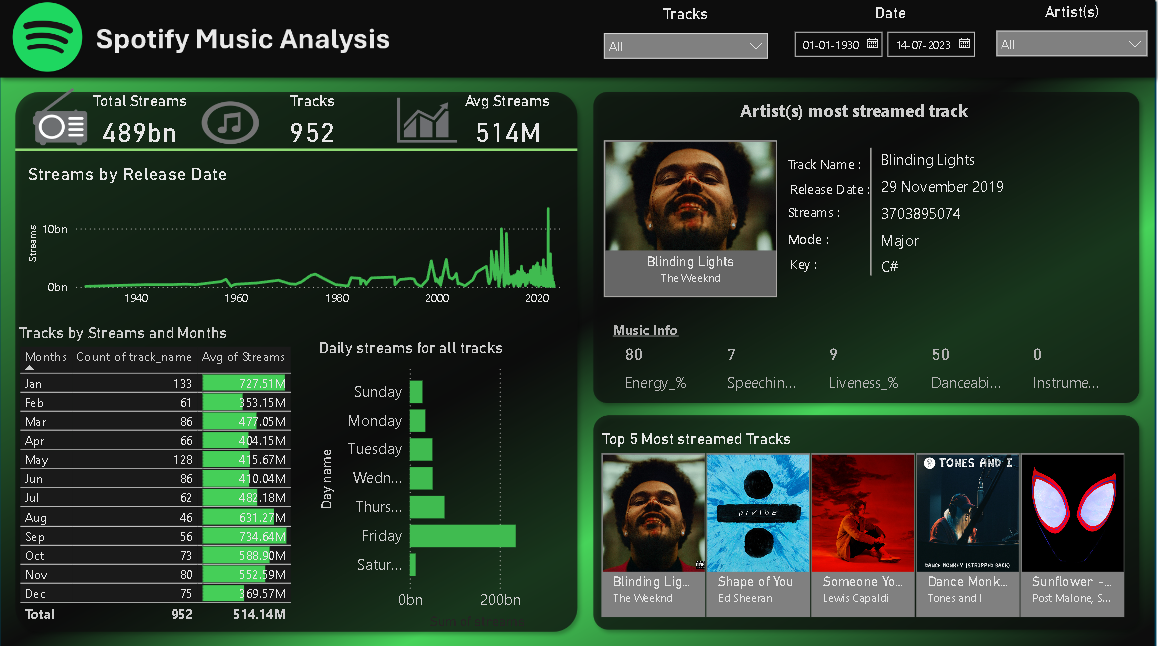

The dashboard page shown, as its layout file describes it:
{"tool":"powerbi","page":{"name":"Page 1","canvas":[1280,720],"ordinal":0},"visuals":[{"type":"card","title":"Total Streams","fields":{"Values":["Sum(Spotify Dataset.streams)"]},"box":[89.2,104.3,135.8,65.9],"z":0},{"type":"card","title":"Avg Streams","fields":{"Values":["Avg(Spotify Dataset.streams)"]},"box":[492.6,104.3,135.8,65.9],"z":1000},{"type":"card","title":"Tracks","fields":{"Values":["CountNonNull(Spotify Dataset.track_name)"]},"box":[278.6,104.3,135.8,65.9],"z":2000},{"type":"lineChart","title":"Streams by Release Date","fields":{"Y":["Sum(Spotify Dataset.streams)"],"Category":["Calendar.Date"]},"box":[28.6,184.3,600,165.7],"z":3000},{"type":"tableEx","title":"Tracks by Streams and Months","fields":{"Values":["Calendar.Month name ","Spotify Dataset.track_name","Avg(Spotify Dataset.streams)"]},"box":[18.6,360,328.6,340],"z":4000},{"type":"clusteredBarChart","title":"Daily streams for all tracks","fields":{"Y":["Sum(Spotify Dataset.streams)"],"Category":["Calendar.Day name"]},"box":[348,376,281,324],"z":5000},{"type":"textbox","box":[811.4,108.6,295.7,40],"z":6000},{"type":"advancedSlicerVisual","fields":{"Values":["Spotify Dataset.track_name"]},"box":[661.4,154.3,200,182.9],"z":7000},{"type":"multiRowCard","fields":{"Values":["Spotify Dataset.track_name","Spotify Dataset.Date","Sum(Spotify Dataset.streams)","Spotify Dataset.mode","Spotify Dataset.key"]},"box":[954,161.4,218.9,155.7],"z":8000},{"type":"textbox","box":[863.4,168.6,158.6,41.4],"z":9000},{"type":"textbox","box":[866.3,195.7,110,30],"z":10000},{"type":"textbox","box":[862.9,222.9,107.1,31.4],"z":11000},{"type":"textbox","box":[862.6,251.1,107.1,31.4],"z":12000},{"type":"textbox","box":[866,278.3,107.1,30],"z":13000},{"type":"cardVisual","fields":{"Data":["Sum(Spotify Dataset.energy_%)","Sum(Spotify Dataset.speechiness_%)","Sum(Spotify Dataset.liveness_%)","Sum(Spotify Dataset.danceability_%)","Sum(Spotify Dataset.instrumentalness_%)"]},"box":[672.9,365.7,564.3,79.1],"z":14000},{"type":"textbox","box":[671.4,350.9,137.1,35.7],"z":15000},{"type":"advancedSlicerVisual","title":"Top 5 Most streamed Tracks","fields":{"Values":["Spotify Dataset.track_name"]},"box":[658.6,475.7,587.7,211.4],"z":16000},{"type":"slicer","title":"Tracks","fields":{"Values":["Spotify Dataset.track_name"]},"box":[655.4,9.7,200,78.6],"z":17000},{"type":"slicer","title":"Date","fields":{"Values":["Calendar.Date"]},"box":[862.9,8.6,235.4,78.6],"z":18000},{"type":"slicer","title":"Artist(s)","fields":{"Values":["Spotify Dataset.artist(s)_name"]},"box":[1087.1,7.1,185.7,70],"z":19000}]}

Visuals, with their boxes in screenshot pixels (x1, y1, x2, y2), scaled from the page's 1280x720 canvas onto the 1158x646 screenshot:
"Total Streams" card: 81,94,204,153
"Avg Streams" card: 446,94,569,153
"Tracks" card: 252,94,375,153
"Streams by Release Date" lineChart: 26,165,569,314
"Tracks by Streams and Months" tableEx: 17,323,314,628
"Daily streams for all tracks" clusteredBarChart: 315,337,569,628
textbox: 734,97,1002,133
advancedSlicerVisual - Spotify Dataset.track_name: 598,138,779,303
multiRowCard - Spotify Dataset.track_name x Spotify Dataset.Date: 863,145,1061,285
textbox: 781,151,925,188
textbox: 784,176,883,203
textbox: 781,200,878,228
textbox: 780,225,877,253
textbox: 783,250,880,277
cardVisual - Sum(Spotify Dataset.energy_%) x Sum(Spotify Dataset.speechiness_%): 609,328,1119,399
textbox: 607,315,731,347
"Top 5 Most streamed Tracks" advancedSlicerVisual: 596,427,1128,616
"Tracks" slicer: 593,9,774,79
"Date" slicer: 781,8,994,78
"Artist(s)" slicer: 983,6,1151,69
